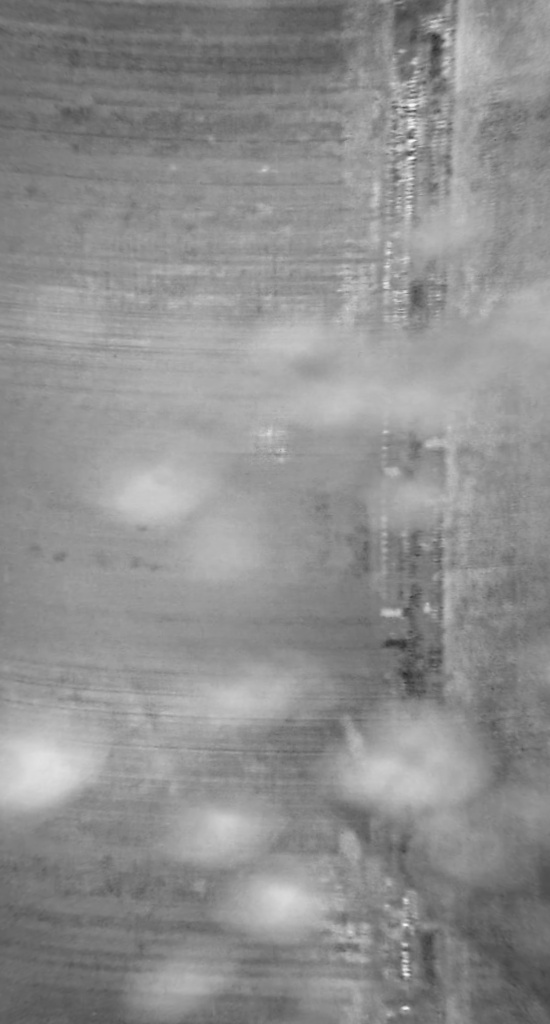splice: (377, 1, 474, 1022)
